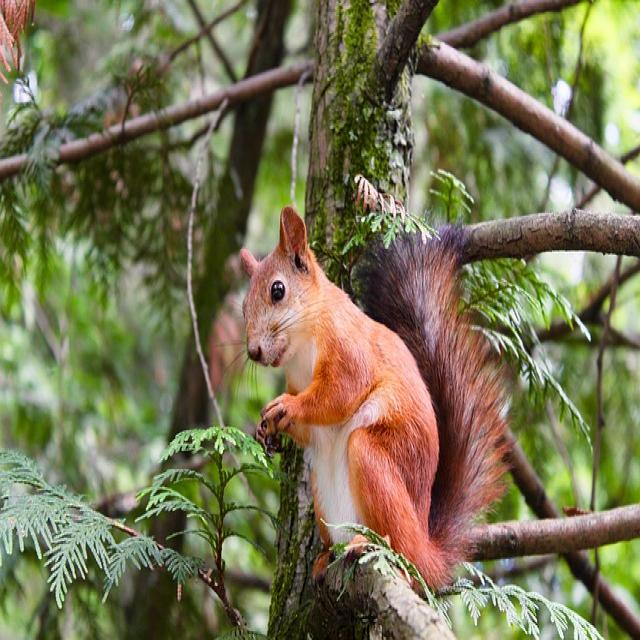Herbivorous: (236, 207, 488, 592)
